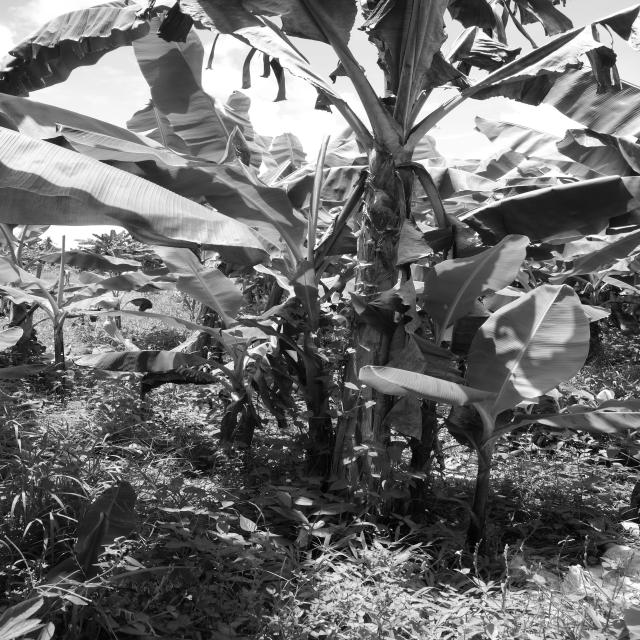Banana-plant: (320, 31, 435, 522)
